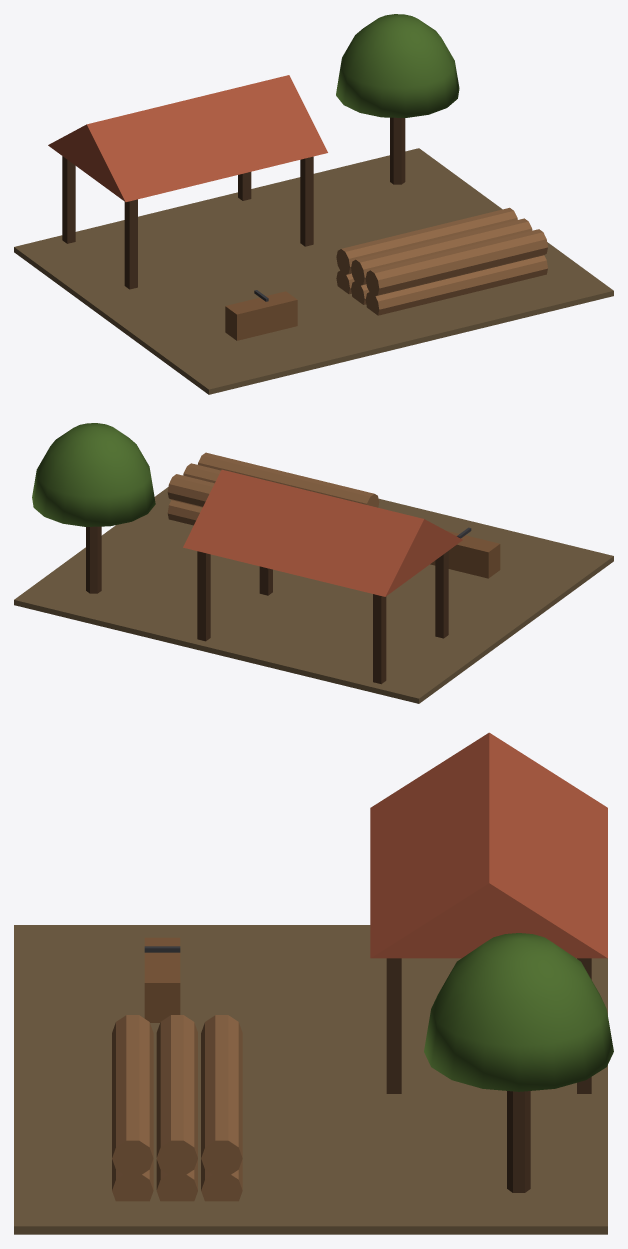
File: lumber.glb
3 views of the same model, one above another, from view 1: azimuth 30°, elevation 25°; view 2: azimuth 150°, elevation 25°; view 3: azimuth 270°, elevation 25° (orthographic). The views are drawn at different scales.
Visible parts, largest first — view 1: Lumber; view 2: Lumber; view 3: Lumber.
Boxes of the visible parts, box(x1,y1,x2,y2) form: Lumber: box(14, 14, 613, 394); Lumber: box(14, 423, 613, 703); Lumber: box(14, 732, 613, 1234).
Size of the model in its own units: 12.1 by 4.78 by 10.1.
